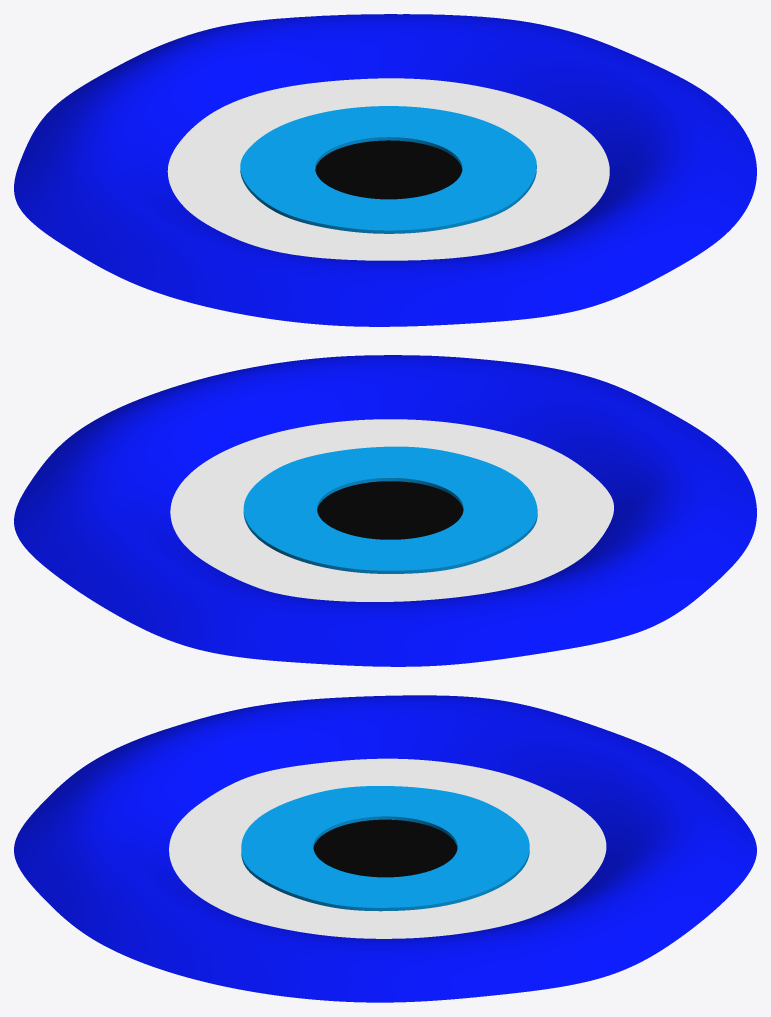
File: Eye.fbx
The picture shows the model from 3 angles, top to bottom: view 1: azimuth 30°, elevation 25°; view 2: azimuth 150°, elevation 25°; view 3: azimuth 270°, elevation 25°; orthographic projection. The views are drawn at different scales.
Parts seen in each view (by area): view 1: Layer 01, Layer 02, Layer 03, Layer 04; view 2: Layer 01, Layer 02, Layer 03, Layer 04; view 3: Layer 01, Layer 02, Layer 03, Layer 04.
Part boxes in pixels (box(x1,y1,x2,y2)): Layer 01: box(14, 14, 756, 326); Layer 02: box(168, 78, 609, 260); Layer 03: box(240, 106, 536, 233); Layer 04: box(315, 140, 462, 199); Layer 01: box(14, 355, 756, 666); Layer 02: box(170, 419, 613, 601); Layer 03: box(243, 446, 537, 573); Layer 04: box(317, 481, 463, 539); Layer 01: box(14, 695, 756, 1002); Layer 02: box(169, 758, 606, 938); Layer 03: box(241, 786, 529, 911); Layer 04: box(313, 819, 457, 877).
Bounding box in the file's own units: 10.03 × 10.3 × 0.4061.
